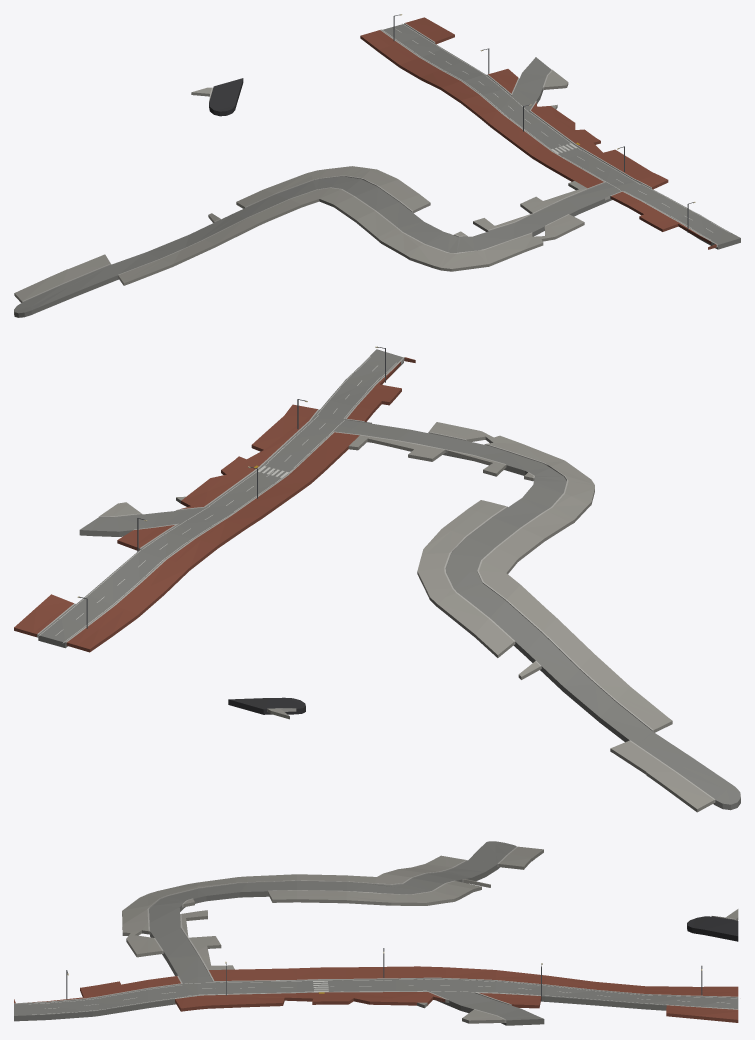
3 renders of one model, top to bottom at view 1: azimuth 30°, elevation 25°; view 2: azimuth 150°, elevation 25°; view 3: azimuth 270°, elevation 25°, orthographic. The views are drawn at different scales.
Bounding box in the file's own units: 146 × 35.73 × 146.
